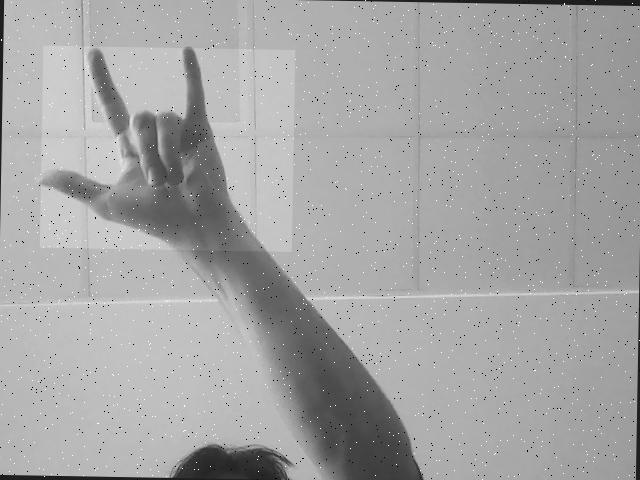I_Love_You: (39, 45, 296, 252)
